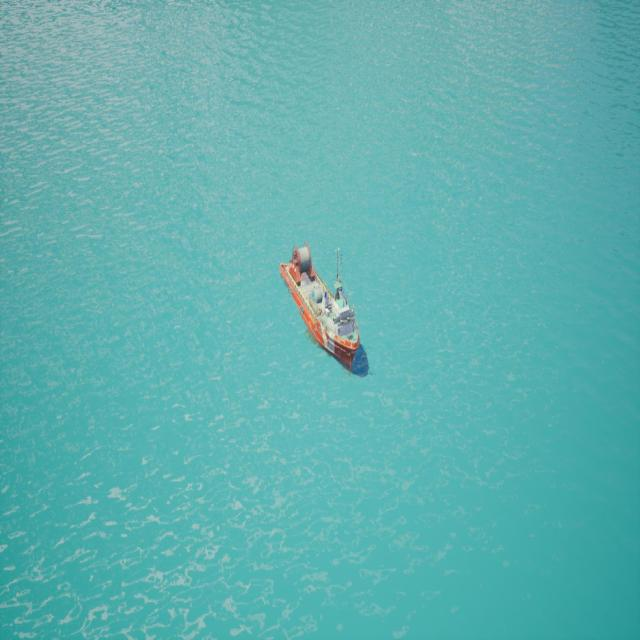tug boat: (274, 222, 383, 377)
